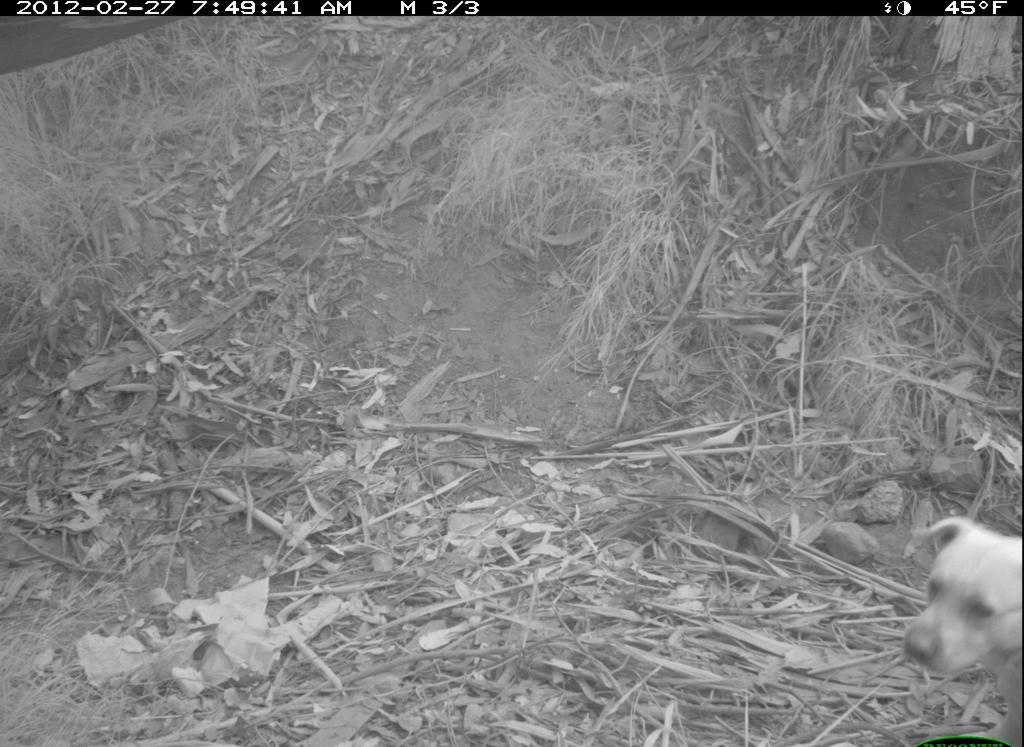dog: (897, 501, 1023, 725)
